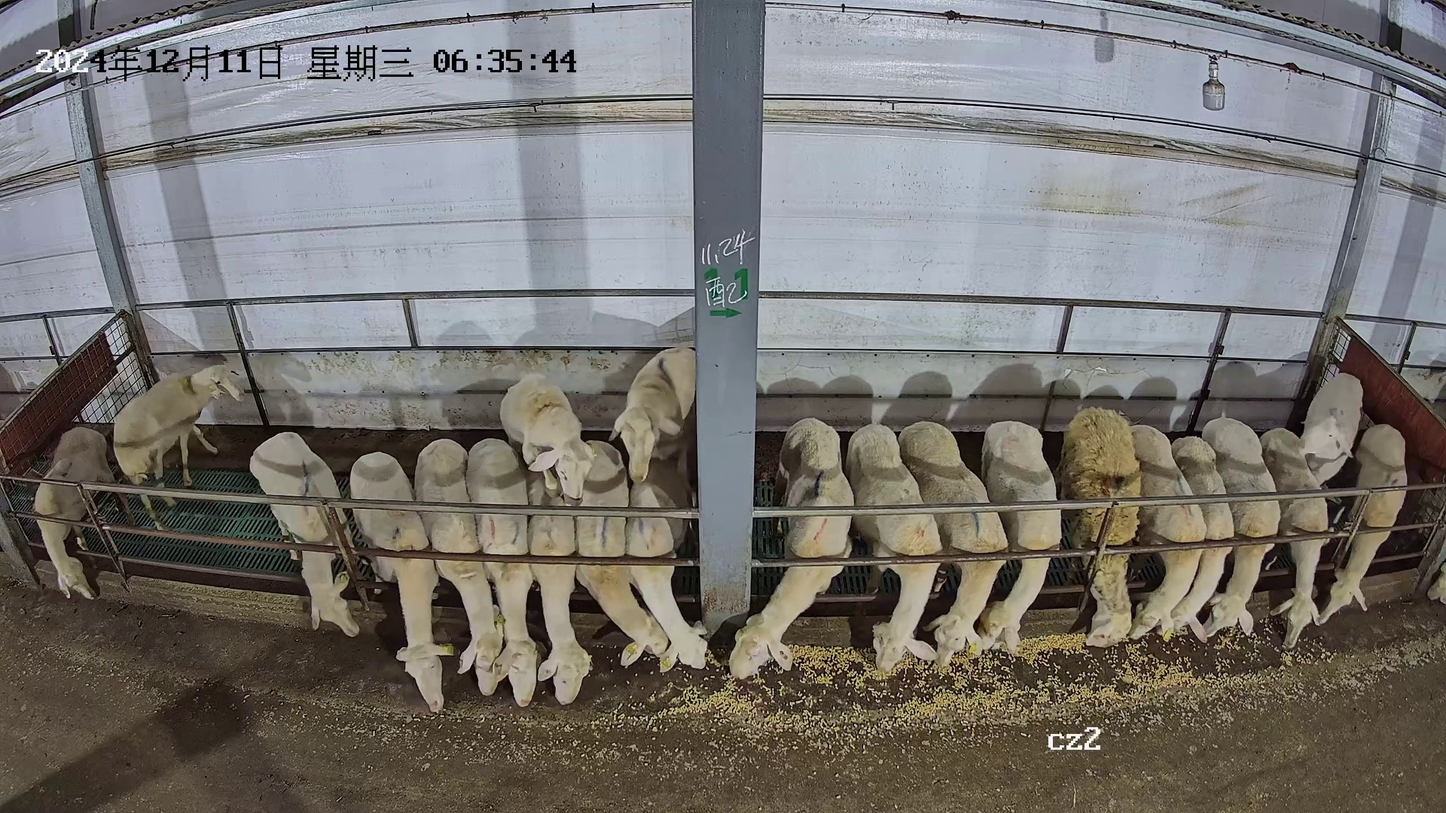Nmounting: (608, 345, 712, 670)
